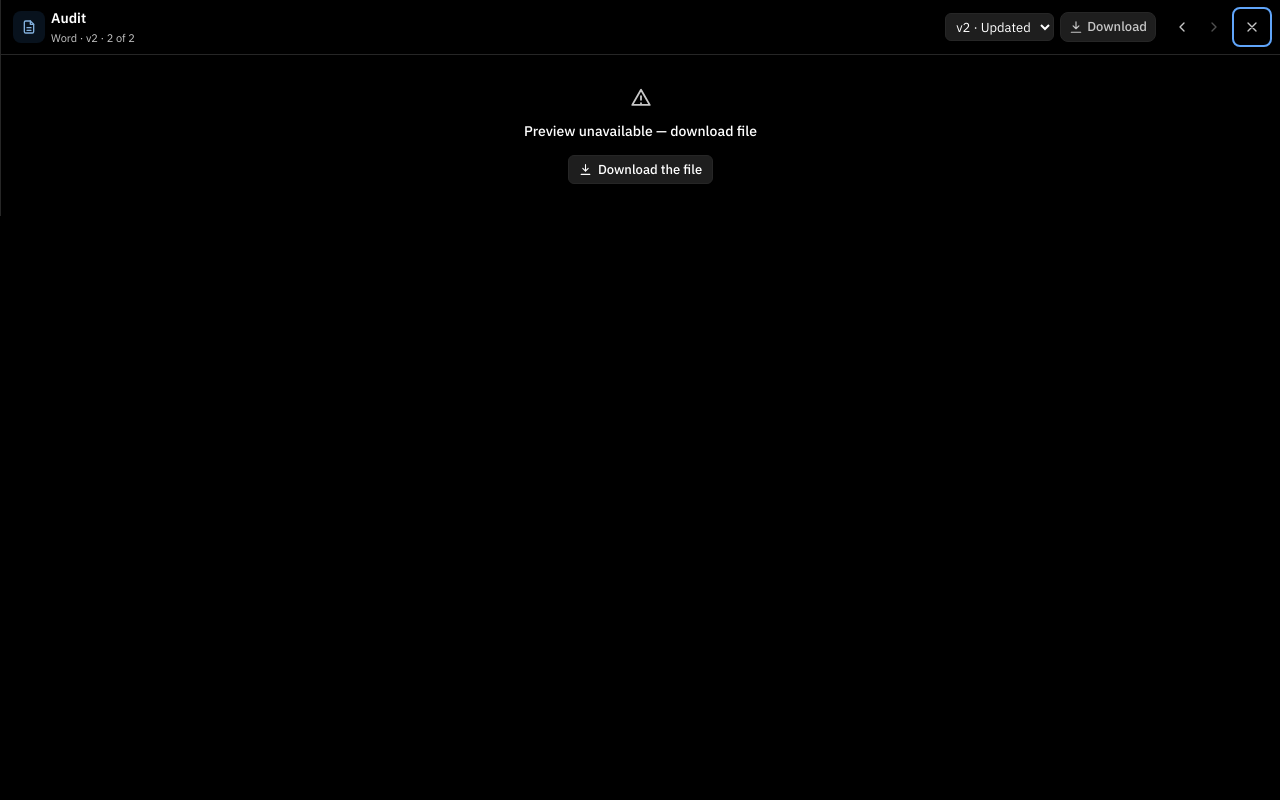
Scenario: panel › steps from the version on show into the artifact’s other versions
Check: the dropdown with test id "artifact-version-select" is shown, box left=945, top=13, right=1054, bottom=41
Click the button named "Previous file". click: point(1182, 27)
box: left=1166, top=11, right=1198, bottom=43
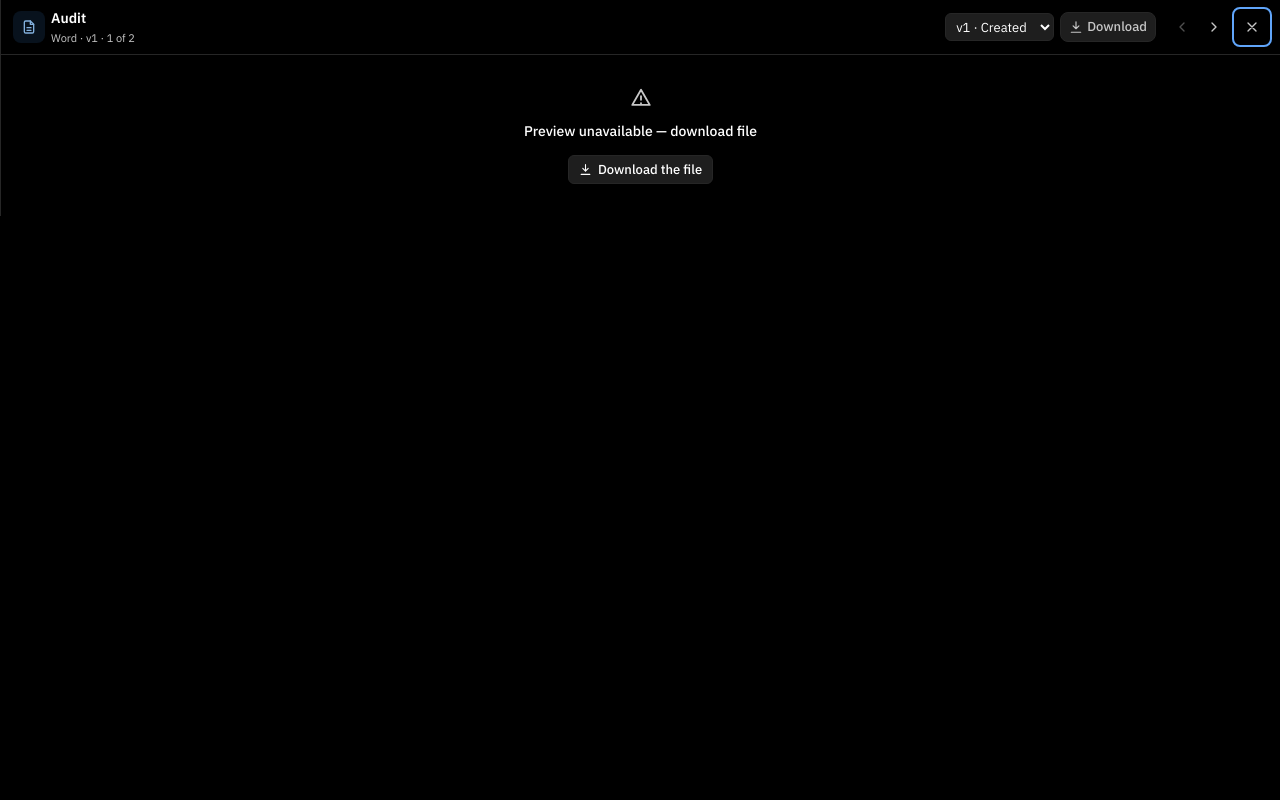
Check: the text with test id "artifact-panel-subtitle" shows "v1", box left=77, top=31, right=98, bottom=45
